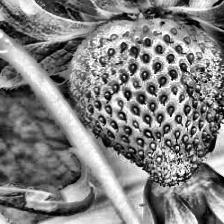Powdery Mildew Fruit: (67, 14, 224, 187)
